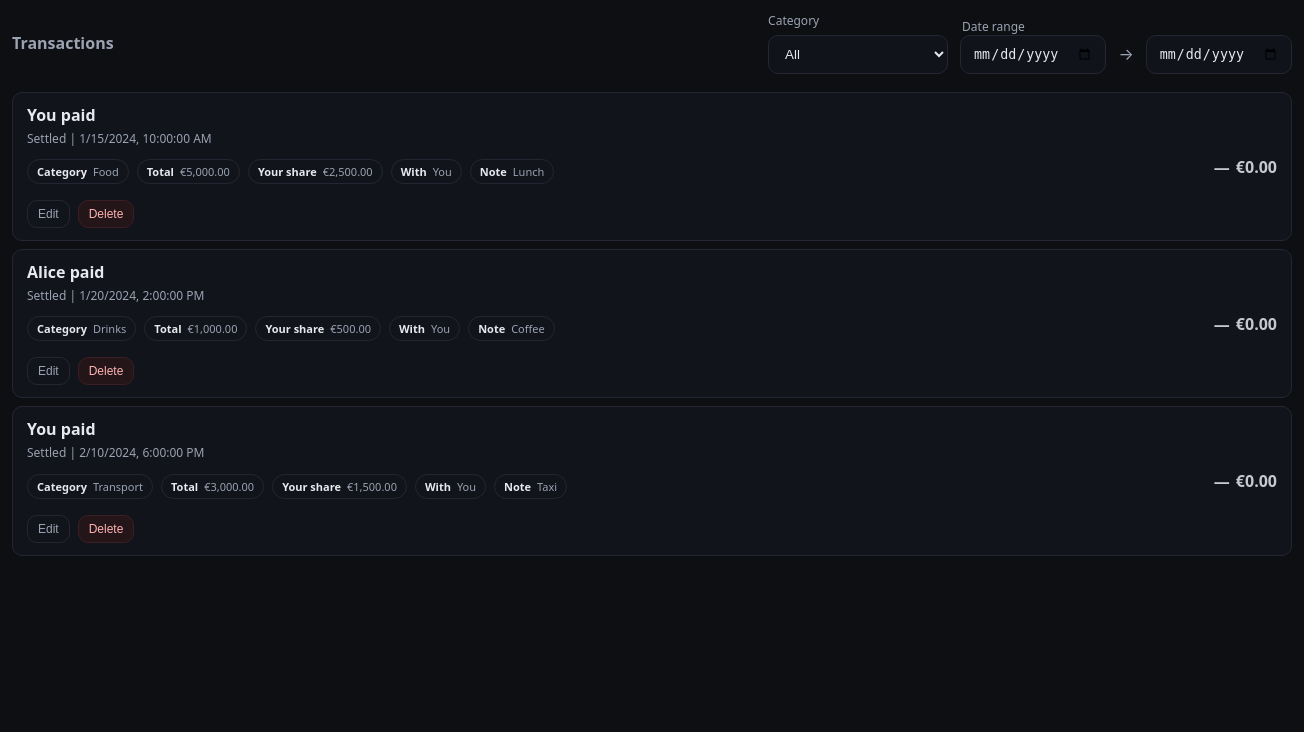
it: TransactionList › Filtering › shows 'Clear filters' button when date filter is active
Expected: the text "Clear filters" is not shown
Apply date filter
In the 1st date field named "date range start": (1033, 54) [960, 35, 1106, 74], type "2024-01-01"
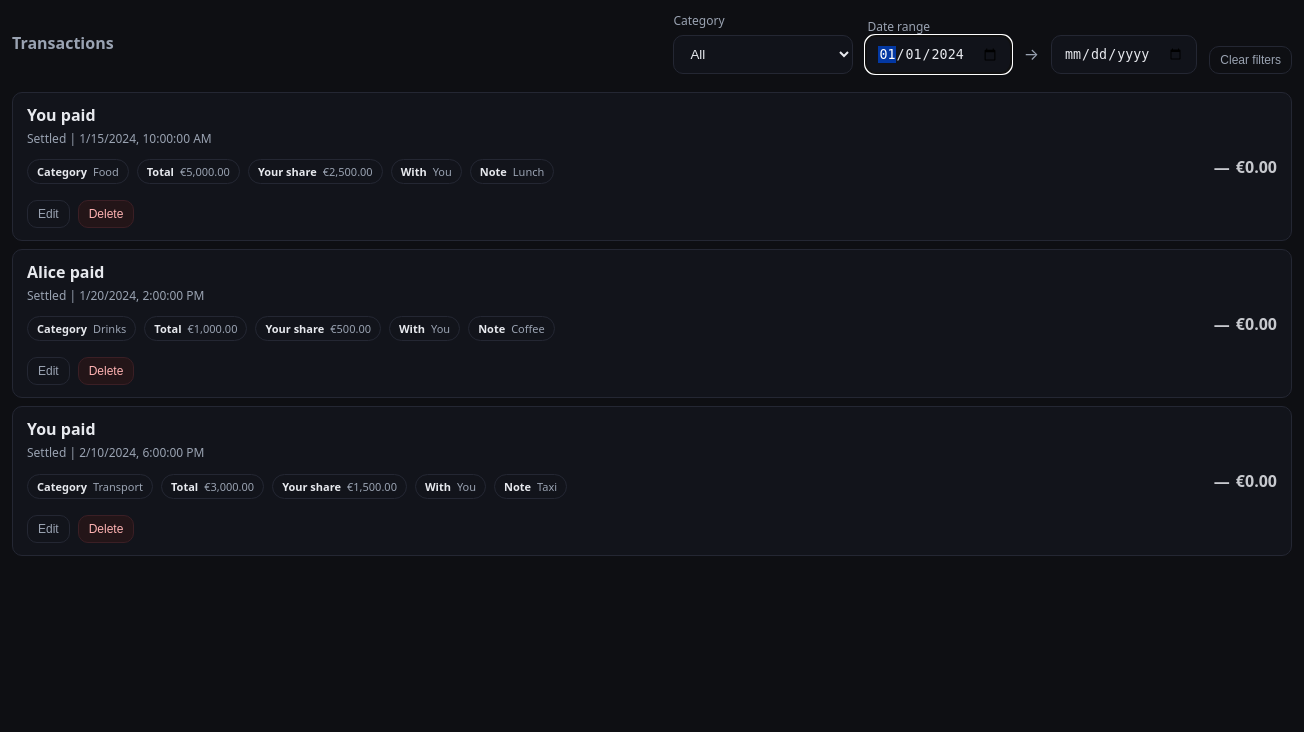
Expected: the button "Clear filters" is shown, [1209, 46, 1292, 74]
